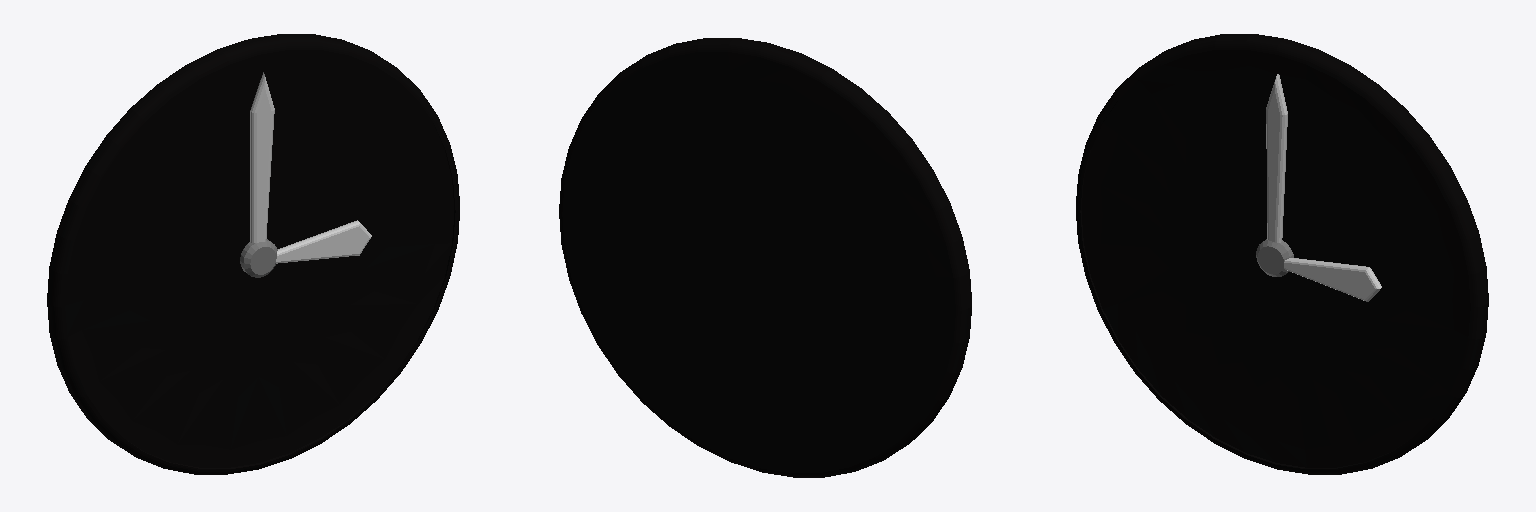
Rendered from clock.obj.
The picture shows the model from 3 angles: view 1: azimuth 30°, elevation 25°; view 2: azimuth 150°, elevation 25°; view 3: azimuth 330°, elevation 25°; orthographic projection.
Visible parts, largest first — view 1: pCylinder3, pCube17, pCylinder10; view 2: pCylinder3; view 3: pCylinder3, pCube17, pCylinder10.
Part boxes in pixels (x1,y1,x2,y2): pCylinder3: (47, 34, 459, 474); pCube17: (250, 72, 371, 263); pCylinder10: (240, 239, 277, 277); pCylinder3: (559, 38, 971, 477); pCylinder3: (1076, 34, 1488, 474); pCube17: (1266, 74, 1381, 301); pCylinder10: (1256, 239, 1293, 276).
Size of the model in its own units: 48.43 by 48.43 by 3.84.